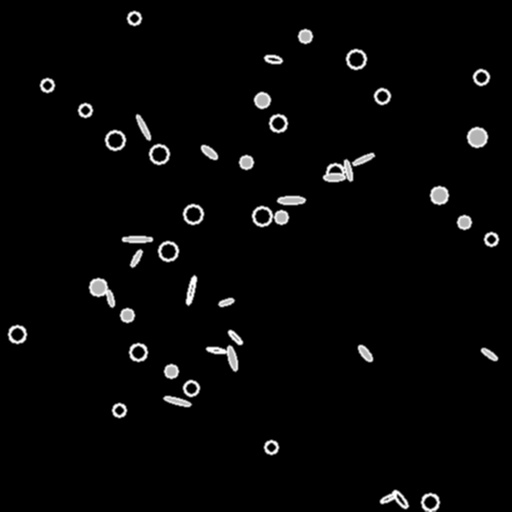pseudomonas: (135, 114, 151, 140), (391, 489, 409, 509), (185, 275, 197, 305), (351, 152, 375, 166), (163, 395, 191, 407), (200, 144, 218, 160), (226, 346, 238, 370), (357, 344, 373, 362), (129, 248, 143, 268), (227, 329, 243, 345), (480, 347, 498, 361), (343, 159, 353, 181), (380, 492, 396, 504), (264, 54, 282, 64), (277, 197, 305, 203), (123, 236, 151, 242), (218, 297, 234, 307), (207, 346, 225, 354), (323, 174, 345, 180), (106, 290, 114, 306)
synechocystis: (159, 242, 177, 260), (253, 207, 271, 225), (468, 128, 486, 146), (347, 50, 365, 68), (150, 145, 168, 163), (184, 205, 202, 223), (106, 131, 124, 149), (90, 279, 106, 295), (9, 326, 25, 342), (270, 115, 286, 131), (130, 344, 146, 360), (422, 494, 438, 510), (431, 187, 447, 203), (327, 164, 343, 180), (375, 89, 389, 103), (184, 381, 198, 395), (255, 93, 269, 107), (474, 70, 488, 84), (458, 216, 470, 228), (299, 30, 311, 42), (79, 104, 91, 116), (121, 309, 133, 321), (165, 365, 177, 377), (113, 404, 125, 416), (485, 233, 497, 245), (265, 441, 277, 453), (41, 79, 53, 91), (240, 156, 252, 168), (128, 12, 140, 24), (275, 211, 287, 223)
